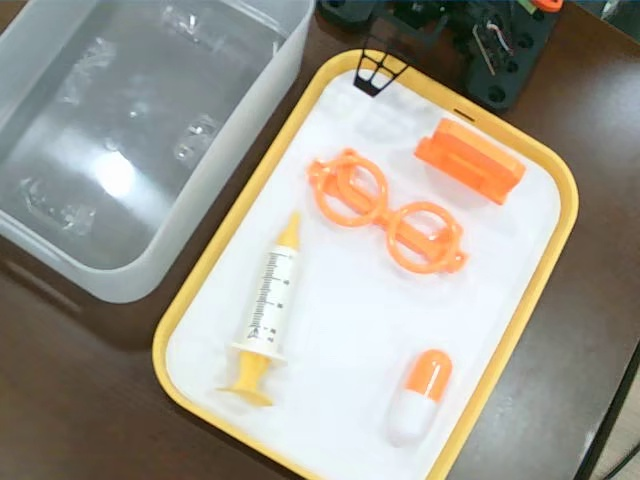pill: (383, 344, 453, 442)
syringe: (221, 209, 302, 413)
